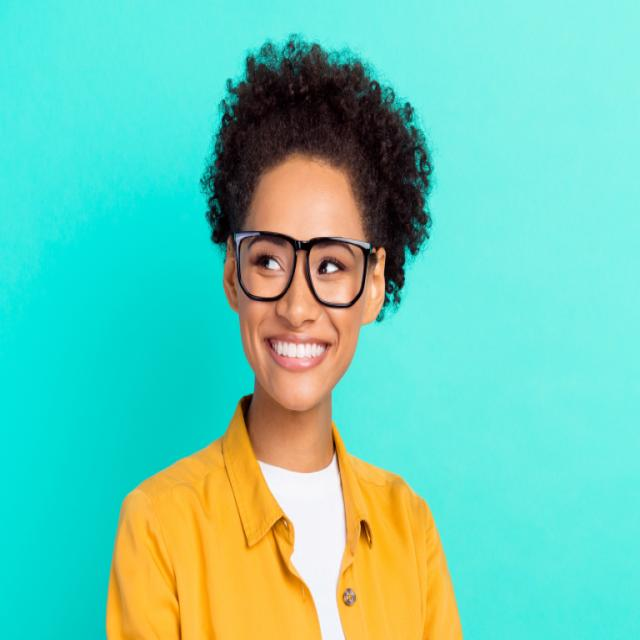adult: (107, 54, 460, 640)
